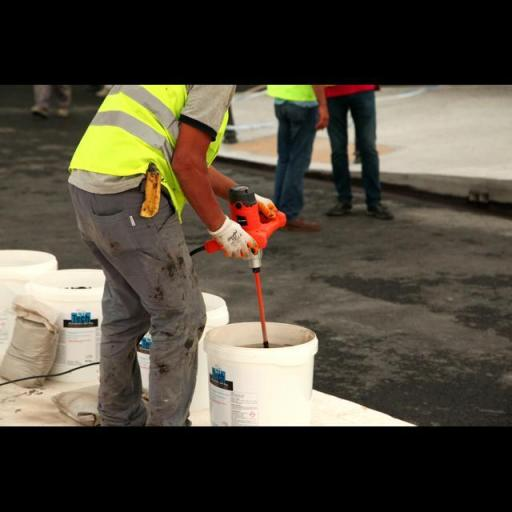Person: (66, 82, 294, 428)
gloves: (206, 220, 264, 266), (251, 192, 289, 218)
vest: (68, 86, 230, 228)
